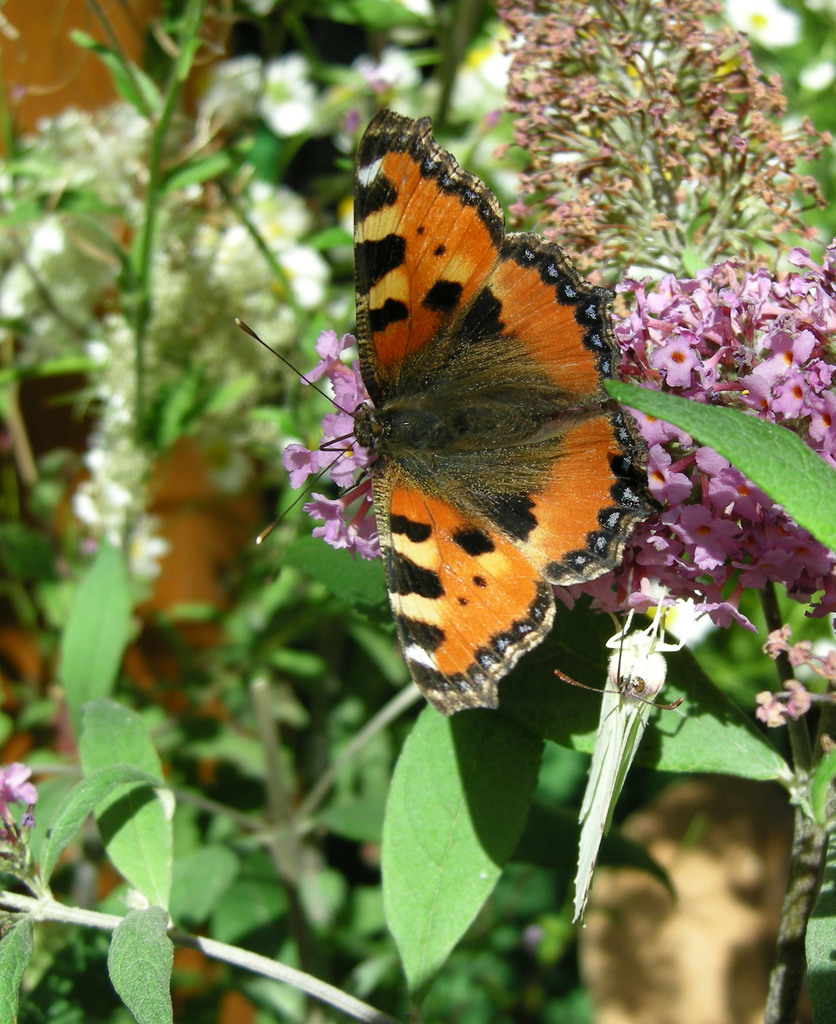Butterfly: (300, 87, 646, 724)
